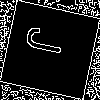J: (24, 24, 73, 59)
